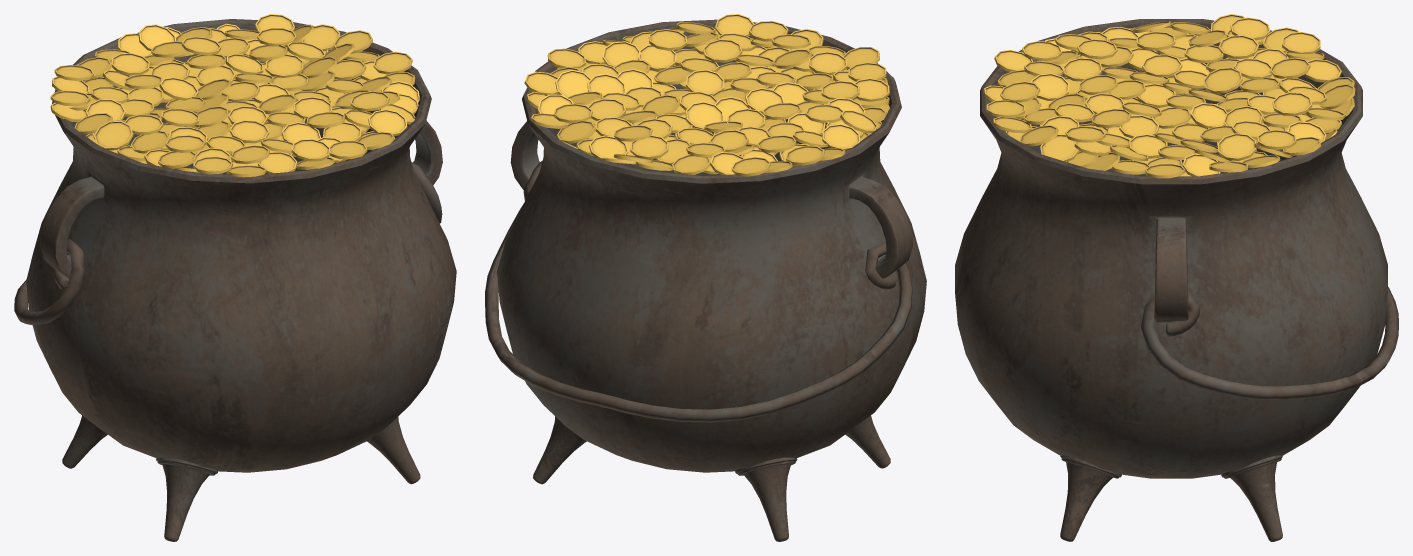
3 views of the same model, side by side, from view 1: azimuth 30°, elevation 25°; view 2: azimuth 150°, elevation 25°; view 3: azimuth 270°, elevation 25° (orthographic).
Parts seen in each view (by area): view 1: Pot_Of_Gold; view 2: Pot_Of_Gold; view 3: Pot_Of_Gold.
Part boxes in pixels (box(x1,y1,x2,y2)): Pot_Of_Gold: box(14, 14, 456, 541); Pot_Of_Gold: box(485, 14, 926, 541); Pot_Of_Gold: box(955, 14, 1398, 541).
Bounding box in the file's own units: 0.6347 × 0.5969 × 0.6075.
Materials: 1 (1 with a texture image).
